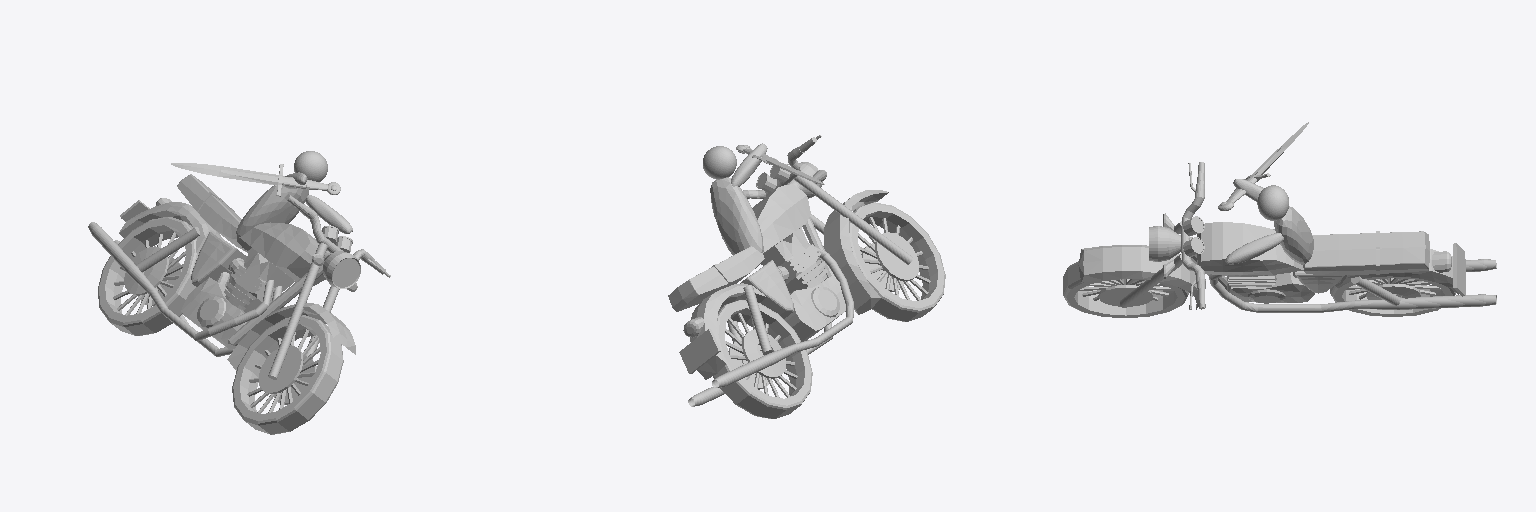
Rendered from bikswordAt.obj.
3 renders of one model, left to right at view 1: azimuth 30°, elevation 25°; view 2: azimuth 150°, elevation 25°; view 3: azimuth 270°, elevation 25°, orthographic.
Visible parts, largest first — view 1: Front_wheel_Cylinder.002, Rear_wheel_Cylinder.002, Gas_Tank_Cube.002, Exhaust_left_Cylinder.002, Engine_1_Cube.002, Seat_Cube.001, Front_water_Cube.002, 立方体.001, Dagger.001, Engine_3_Cube.002, Rear_water_Cube.002, Engine_2_Cube.002 (+10 smaller); view 2: Front_wheel_Cylinder.002, Rear_wheel_Cylinder.002, Front_water_Cube.002, 立方体.001, Gas_Tank_Cube.002, Seat_Cube.001, Engine_1_Cube.002, Exhaust_left_Cylinder.002, Engine_2_Cube.002, Rear_water_Cube.002, Engine_3_Cube.002, Front_bumper_left_Cylinder.002 (+8 smaller); view 3: Seat_Cube.001, Gas_Tank_Cube.002, Front_wheel_Cylinder.002, Front_water_Cube.002, Exhaust_right_Cylinder.002, Rear_wheel_Cylinder.002, 立方体.001, Steering_Cylinder.002, Engine_2_Cube.002, Headlight_Cylinder.002, 球_球.002, 立方体.002 (+9 smaller).
Part boxes in pixels (x1,y1,x2,y2): Front_wheel_Cylinder.002: (232,315,343,434); Rear_wheel_Cylinder.002: (98,217,197,335); Gas_Tank_Cube.002: (239,222,329,285); Exhaust_left_Cylinder.002: (88,222,273,340); Engine_1_Cube.002: (224,248,295,312); Seat_Cube.001: (177,174,249,252); Front_water_Cube.002: (227,303,355,370); 立方体.001: (236,185,308,250); Dagger.001: (171,163,340,196); Engine_3_Cube.002: (191,230,246,288); Rear_water_Cube.002: (119,202,221,254); Engine_2_Cube.002: (181,277,246,349); Front_wheel_Cylinder.002: (849,202,945,321); Rear_wheel_Cylinder.002: (713,300,812,418); Front_water_Cube.002: (823,190,888,314); 立方体.001: (710,177,763,254); Gas_Tank_Cube.002: (752,184,810,254); Seat_Cube.001: (668,246,764,311); Engine_1_Cube.002: (761,227,827,292); Exhaust_left_Cylinder.002: (712,243,853,387); Engine_2_Cube.002: (784,276,845,341); Rear_water_Cube.002: (690,283,766,379); Engine_3_Cube.002: (740,260,793,318); Front_bumper_left_Cylinder.002: (794,176,912,264); Seat_Cube.001: (1303,231,1429,275); Gas_Tank_Cube.002: (1197,222,1303,275); Front_wheel_Cylinder.002: (1063,261,1188,317); Front_water_Cube.002: (1078,245,1198,309); Exhaust_right_Cylinder.002: (1209,274,1496,312); Rear_wheel_Cylinder.002: (1330,276,1455,316); 立方体.001: (1274,206,1313,264); Steering_Cylinder.002: (1181,162,1205,309); Engine_2_Cube.002: (1227,272,1314,302); Headlight_Cylinder.002: (1149,226,1192,261); 球_球.002: (1257,185,1288,220); 立方体.002: (1225,233,1283,264).
Size of the model in its own units: 3.81 by 3.98 by 7.9.